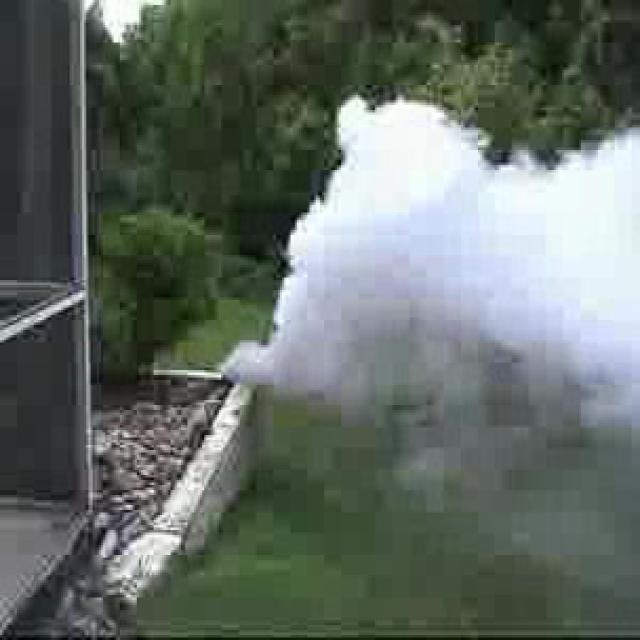Smoke: (270, 125, 638, 402)
